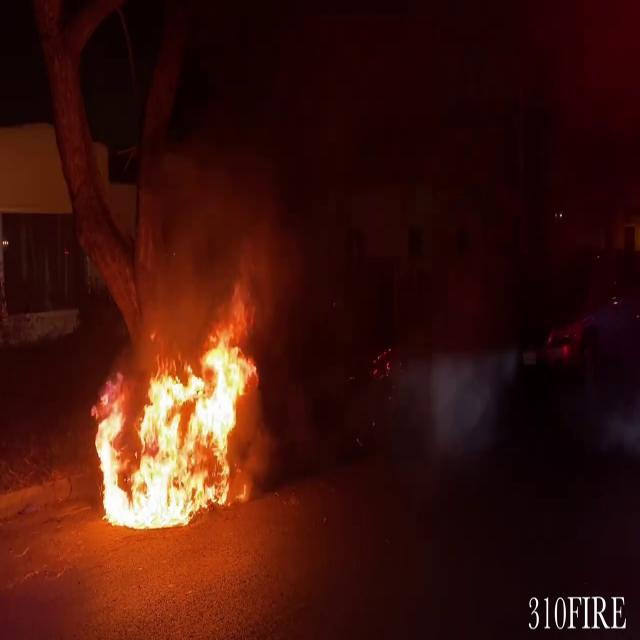Fire: (84, 308, 266, 535)
Smoke: (128, 28, 365, 344)
